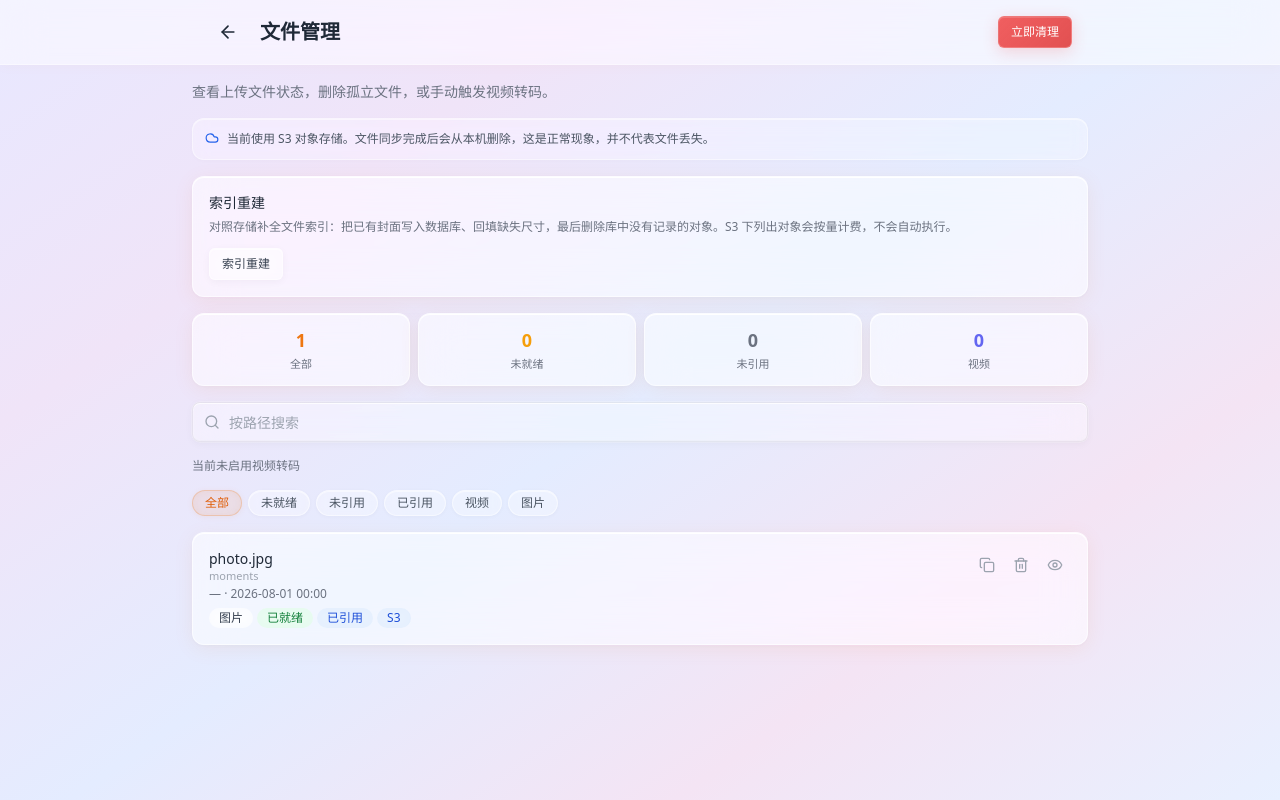
Test: AdminFilesSection S3 storage › renders a second rebuild when storage returns no leftover items
Step 1. Click the button "索引重建" → click(246, 264), box [209,248,283,280]
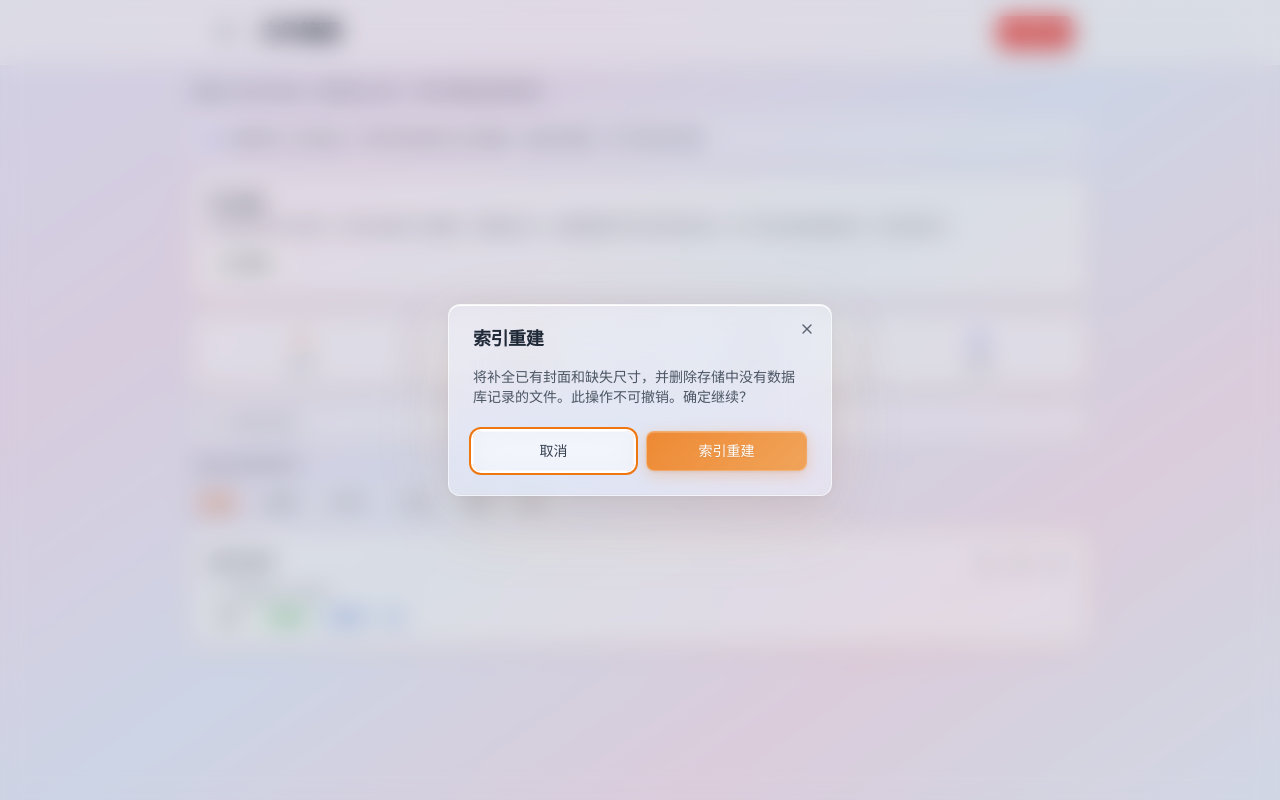
Step 2. Click the button "索引重建" → click(726, 451), box [646,431,807,471]
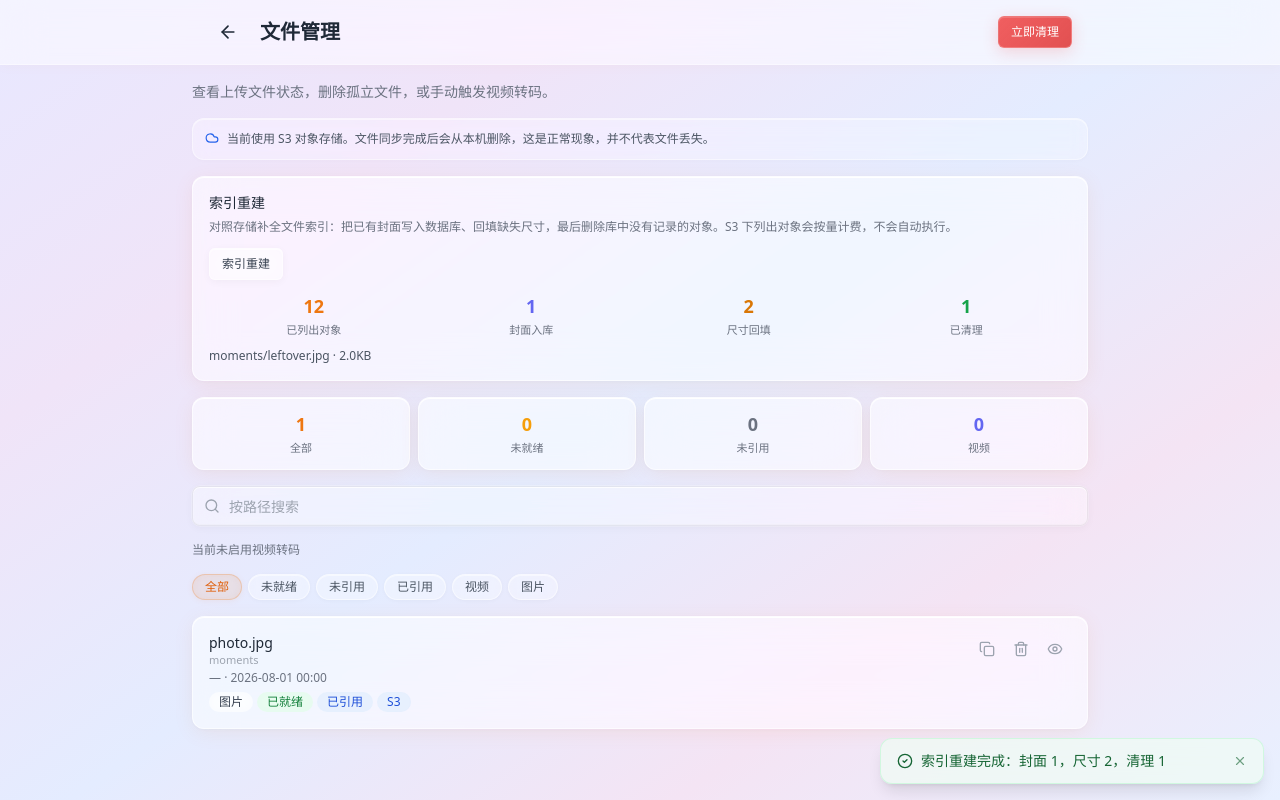
Now the text "moments/leftover.jpg · 2.0KB" is shown, box [209,347,371,364]
Now the dialog is gone
Step 3. Click the button "索引重建" → click(246, 264), box [209,248,283,280]
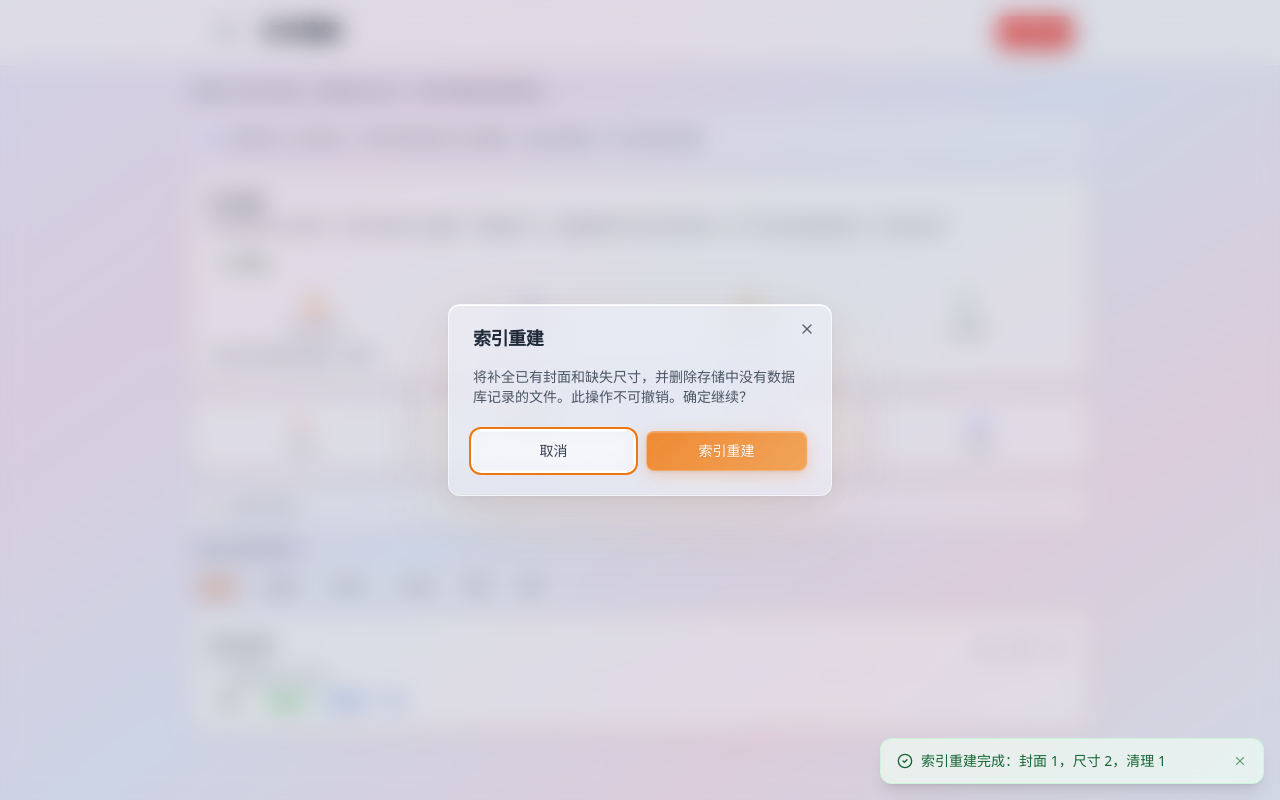
Step 4. Click the button "索引重建" → click(726, 451), box [646,431,807,471]
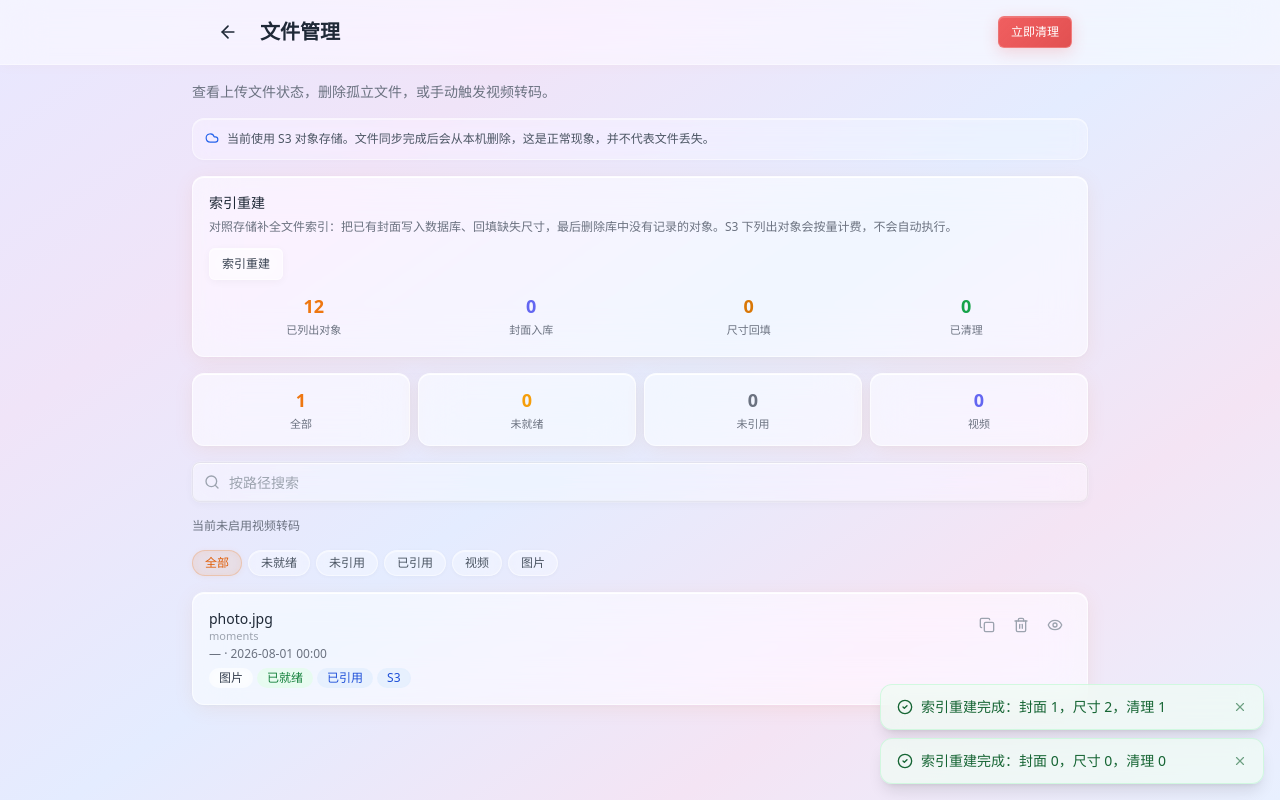
Now the text "封面入库" is shown, box [509,322,553,337]
Now the text "moments/leftover.jpg · 2.0KB" is gone
